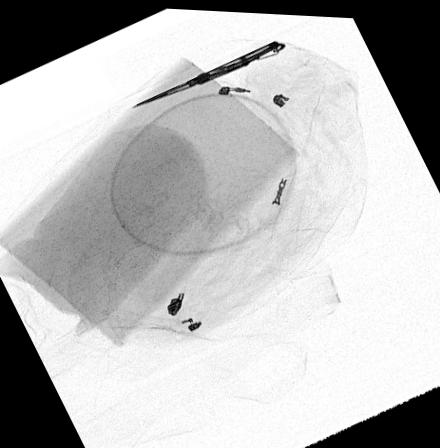Knife: (130, 37, 287, 107)
